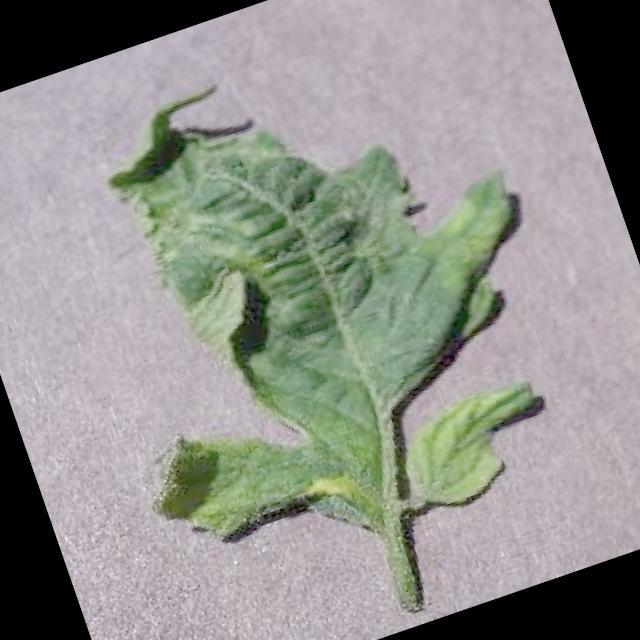Tomato mosaic virus leaf: (23, 0, 600, 603)
